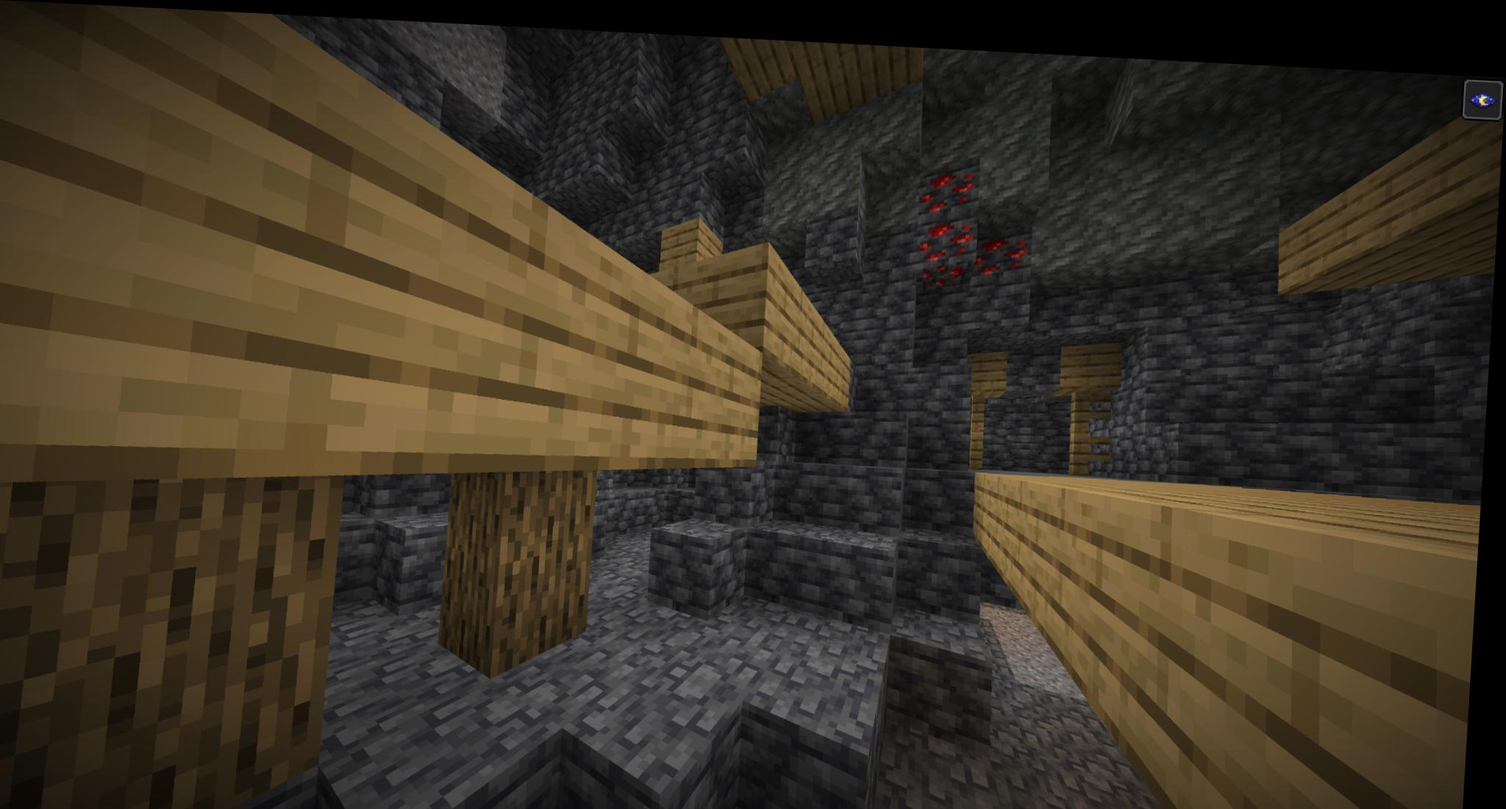redstone ore: (974, 212, 1037, 269), (921, 151, 985, 206), (918, 248, 980, 292), (923, 204, 971, 250)
